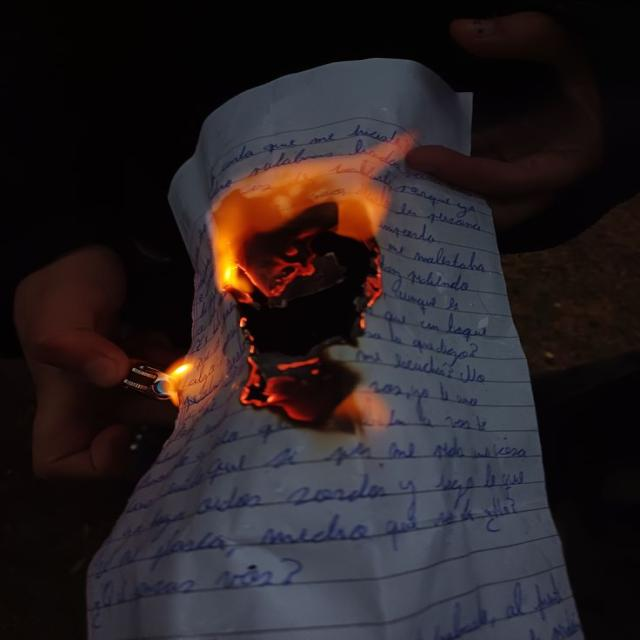fire: (206, 133, 413, 291), (156, 362, 193, 401)
